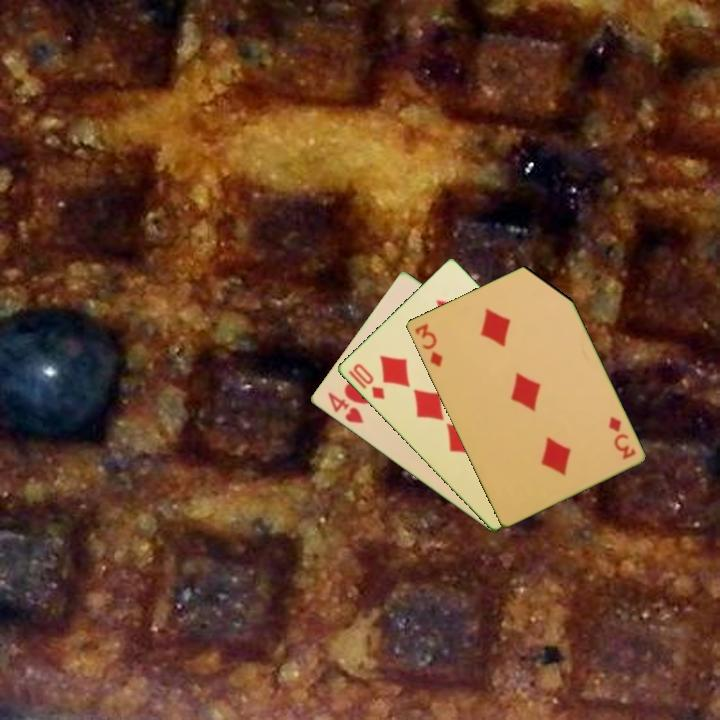10d: (349, 360, 387, 403)
3d: (411, 319, 445, 370), (604, 412, 638, 462)
4h: (324, 388, 366, 427)
